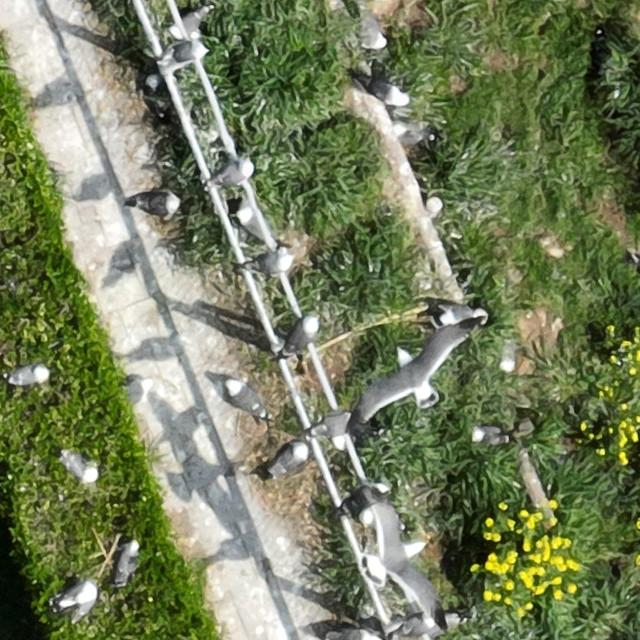F: (367, 494, 438, 618), (377, 339, 468, 413)
umineko: (235, 208, 280, 248), (357, 16, 389, 52), (230, 386, 265, 414), (291, 319, 319, 350), (62, 584, 96, 609), (320, 414, 350, 442), (138, 194, 178, 214), (276, 444, 308, 469), (218, 161, 254, 183), (65, 458, 98, 482), (168, 43, 206, 62), (437, 305, 477, 323), (116, 546, 136, 582), (11, 365, 45, 385), (373, 83, 407, 103), (176, 11, 205, 34), (261, 252, 292, 273), (328, 418, 349, 448), (365, 504, 395, 524), (499, 336, 517, 369), (473, 427, 504, 445)
